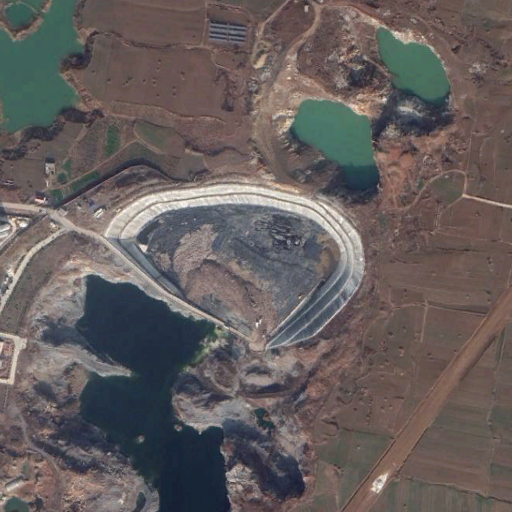lf: (108, 186, 363, 347)
